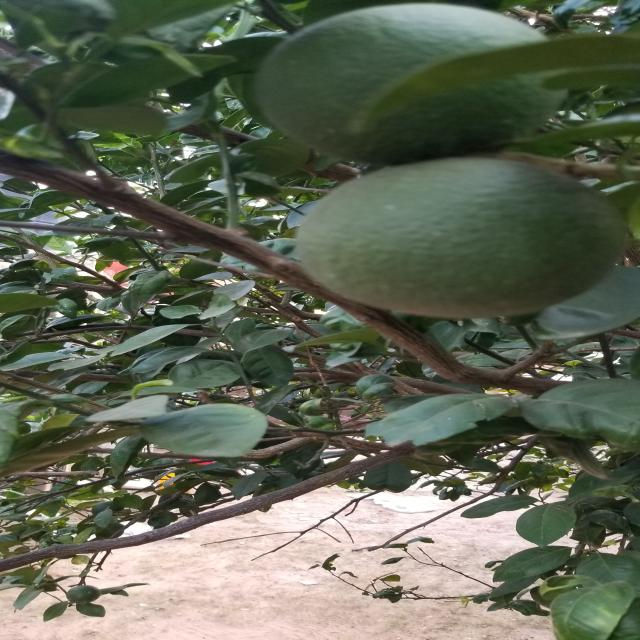Unripe: (281, 154, 617, 322), (252, 7, 568, 152)
